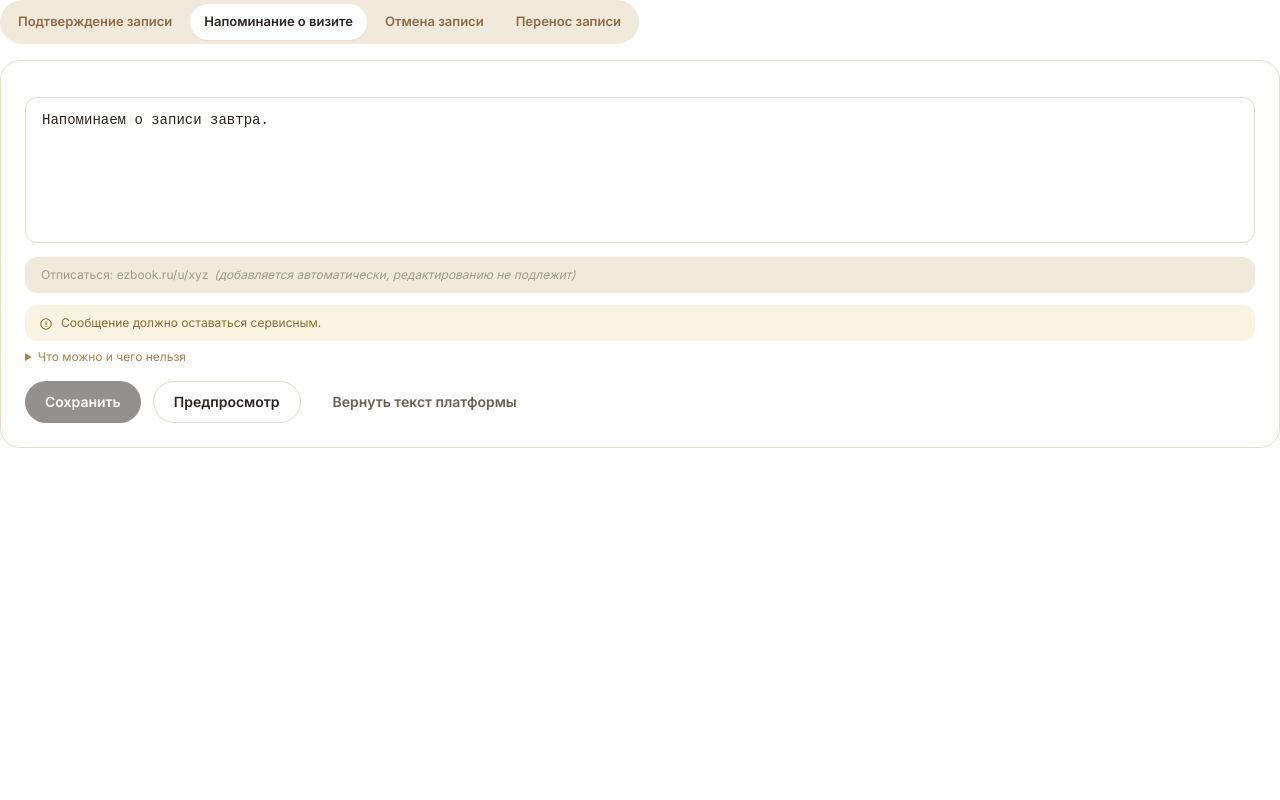
Test: NotificationTemplatesTab › surfaces the JSON markersHit 400 body inside the modal instead of a bare failure
Replace the text in the text box showing "Напоминаем о записи завтра." with "Текст без явных маркеров" at (640, 170), box left=25, top=96, right=1255, bottom=242
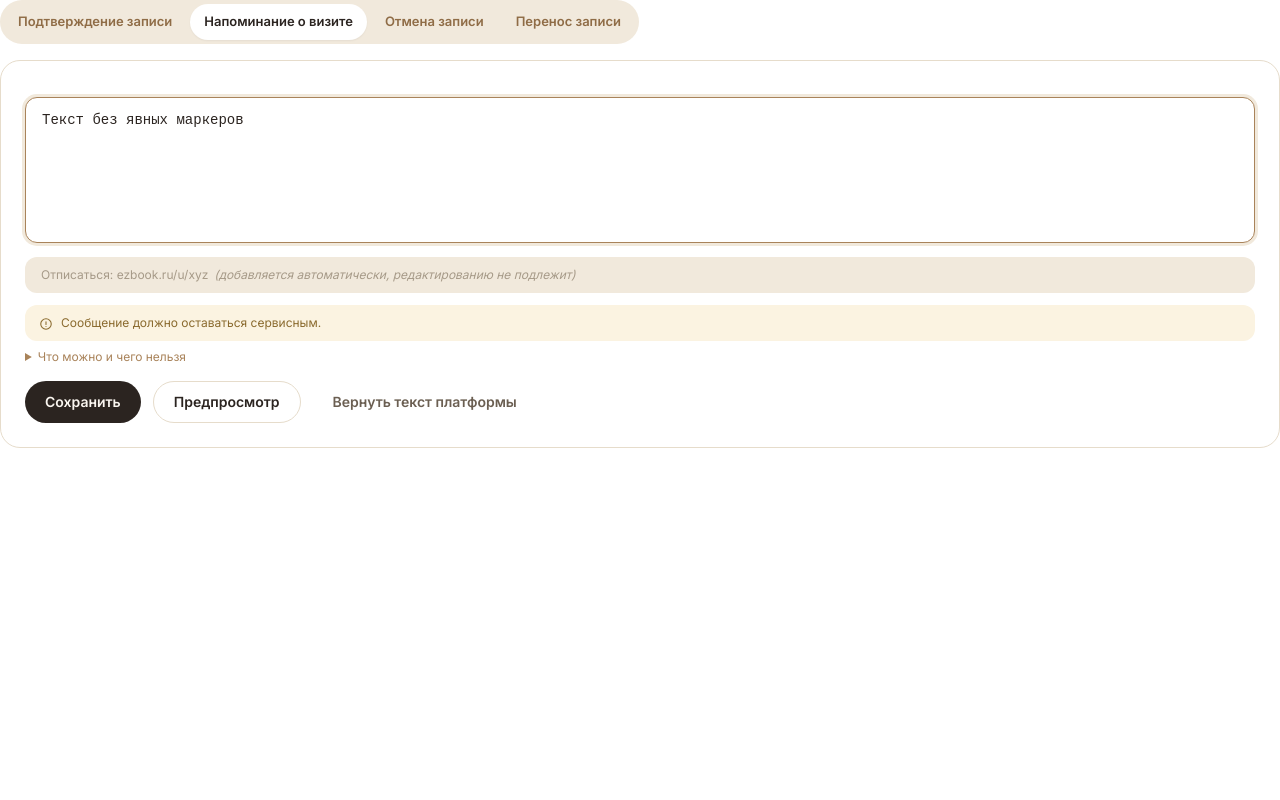
Click the button "Сохранить" at (83, 402), box left=25, top=380, right=141, bottom=422
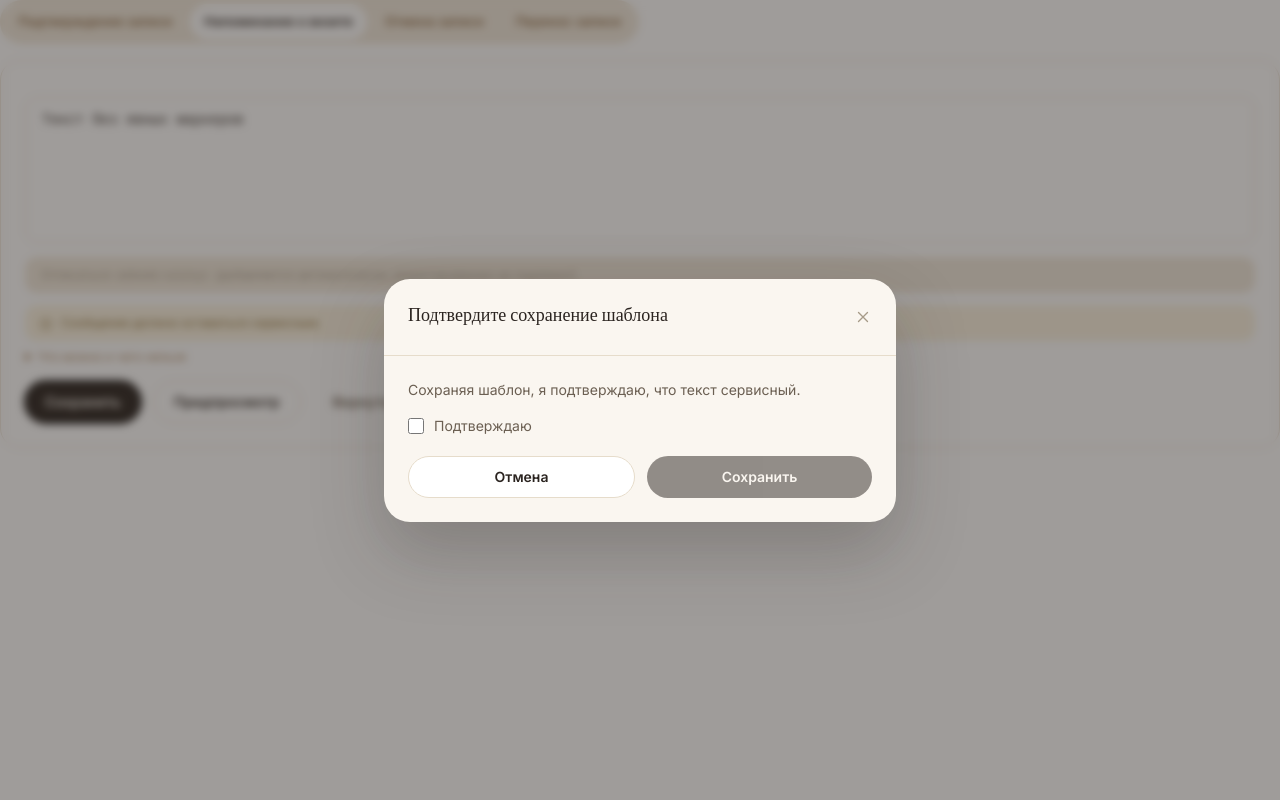
Click the checkbox labelled "Подтверждаю" at (416, 426), box left=408, top=418, right=424, bottom=434
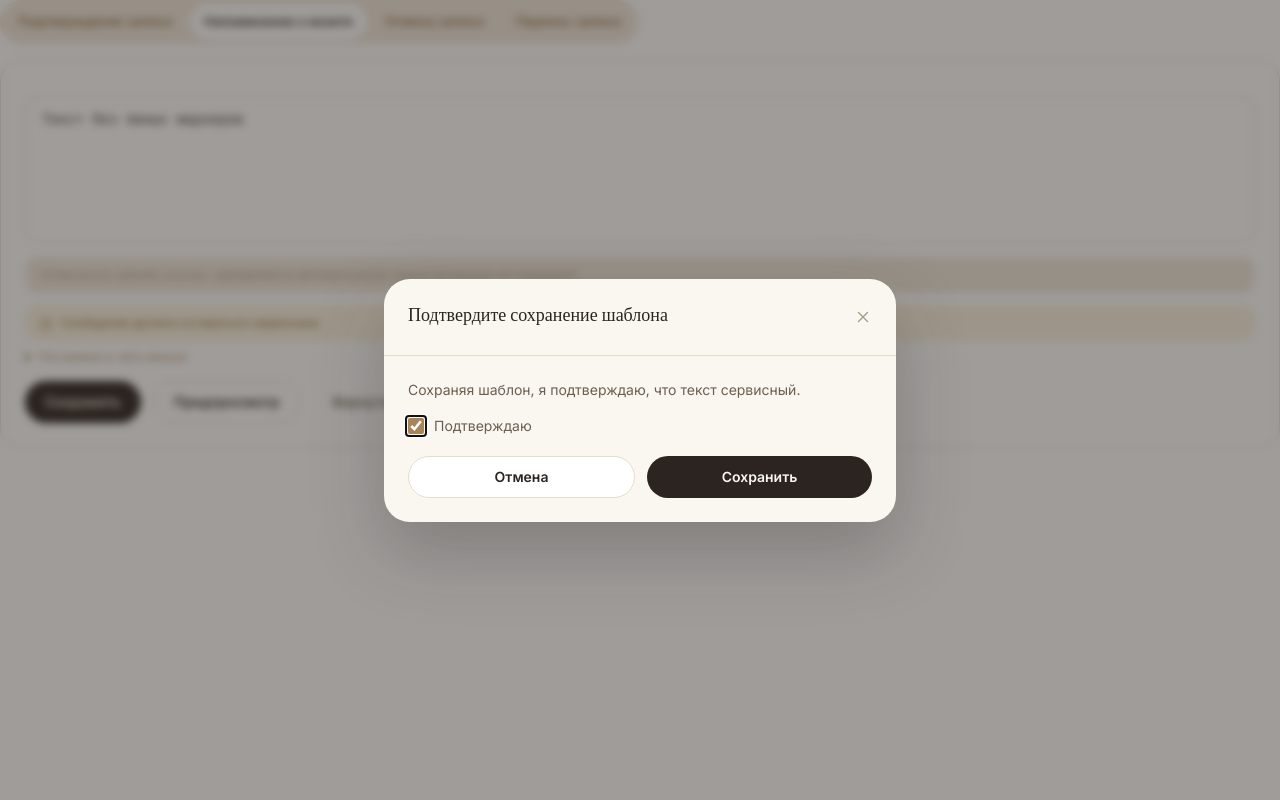
Click the button "Сохранить" at (760, 476), box left=647, top=456, right=872, bottom=498
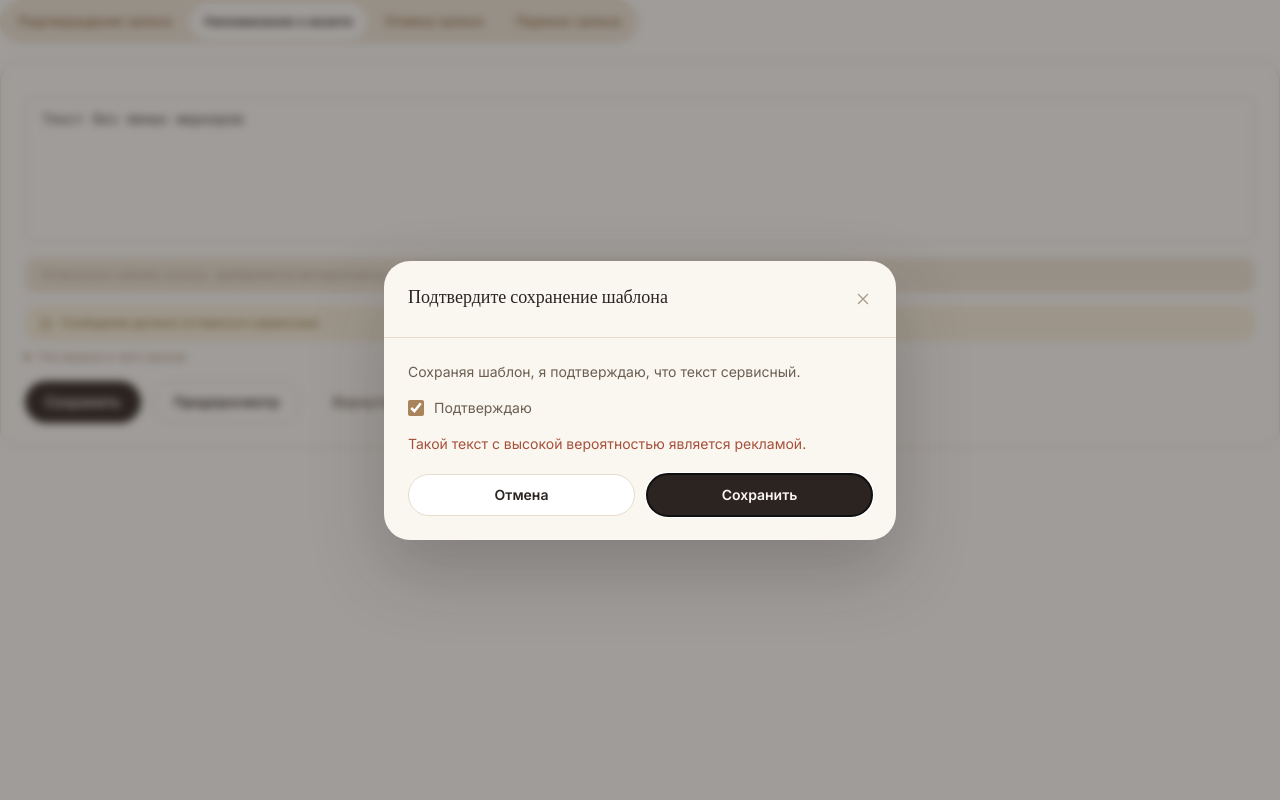
Check: the text "Такой текст с высокой вероятностью является рекламой." is shown, box left=408, top=434, right=872, bottom=454
